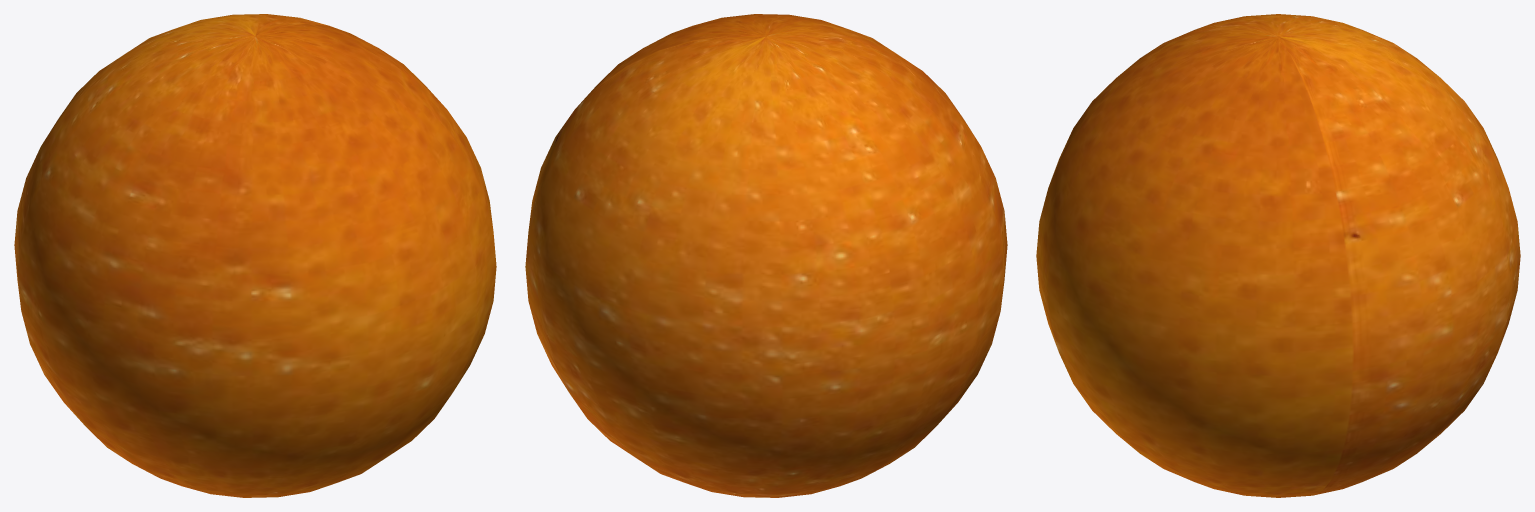
File: orange.obj
3 renders of one model, left to right at view 1: azimuth 30°, elevation 25°; view 2: azimuth 150°, elevation 25°; view 3: azimuth 270°, elevation 25°, orthographic.
Parts seen in each view (by area): view 1: pSphere1; view 2: pSphere1; view 3: pSphere1.
Boxes of the visible parts, x1=… form: pSphere1: x1=14, y1=14, x2=496, y2=497; pSphere1: x1=525, y1=14, x2=1007, y2=497; pSphere1: x1=1036, y1=14, x2=1520, y2=497.
Bounding box in the file's own units: 2 × 2 × 2.
